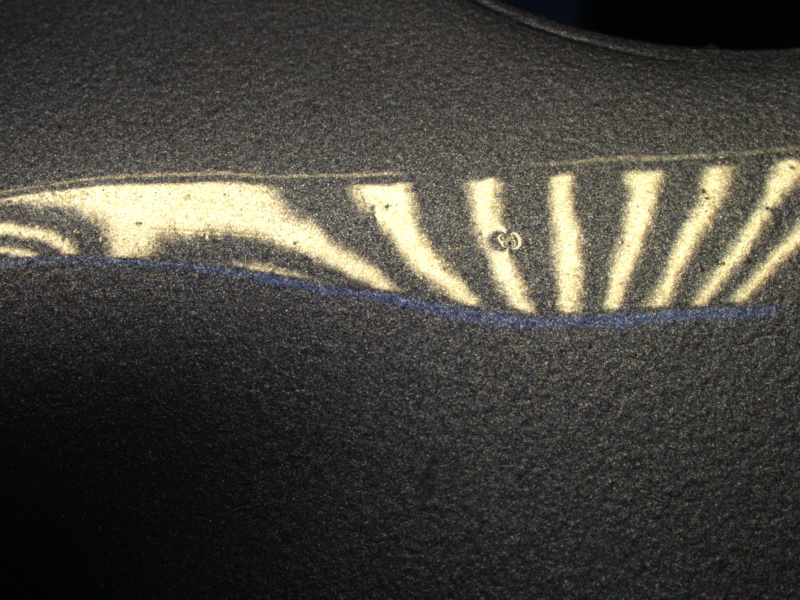bad: (482, 224, 527, 258)
